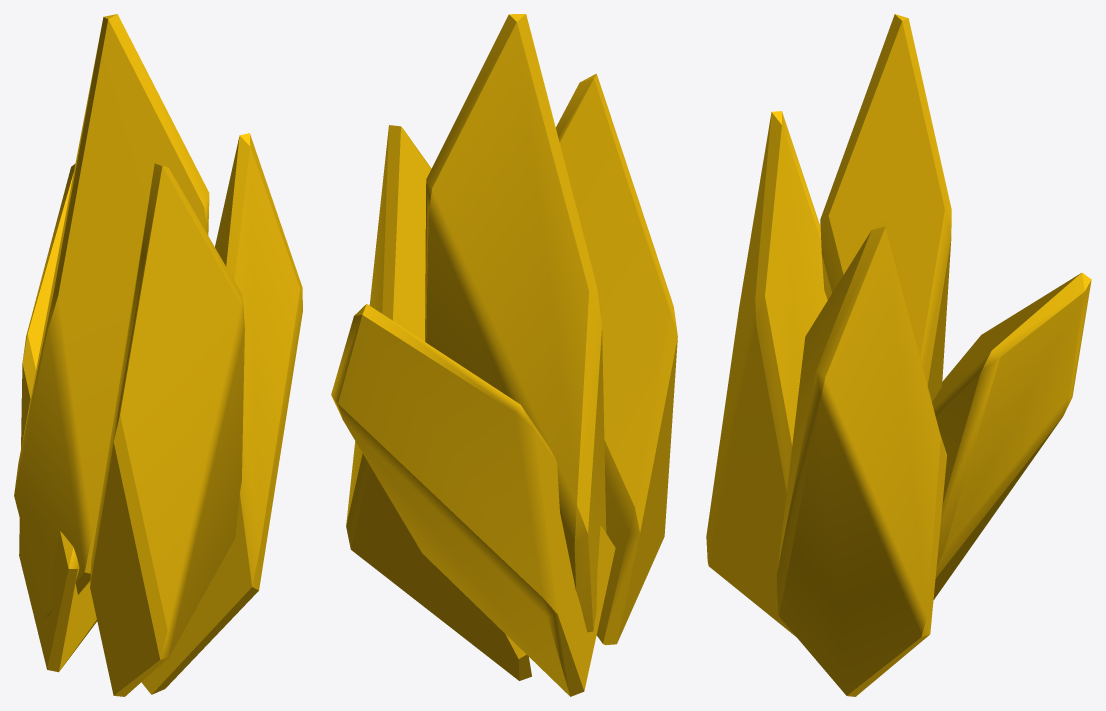
File: torch_fire_v1.fbx
3 views of the same model, side by side, from view 1: azimuth 30°, elevation 25°; view 2: azimuth 150°, elevation 25°; view 3: azimuth 270°, elevation 25° (orthographic). The views are drawn at different scales.
Parts seen in each view (by area): view 1: fire_8, fire_10, fire_9, fire_11; view 2: fire_10, fire_11, fire_8, fire_9; view 3: fire_9, fire_8, fire_10, fire_11.
Part boxes in pixels (bbox=[...]): fire_8: bbox=[90, 163, 244, 696]; fire_10: bbox=[14, 14, 209, 616]; fire_9: bbox=[141, 133, 302, 694]; fire_11: bbox=[19, 164, 97, 672]; fire_10: bbox=[425, 14, 606, 632]; fire_11: bbox=[331, 304, 615, 696]; fire_8: bbox=[556, 73, 677, 645]; fire_9: bbox=[346, 125, 531, 680]; fire_9: bbox=[776, 220, 946, 696]; fire_8: bbox=[706, 111, 827, 637]; fire_10: bbox=[820, 14, 951, 401]; fire_11: bbox=[932, 272, 1091, 599].
Size of the model in its own units: 0.2028 by 0.5438 by 0.2833.
